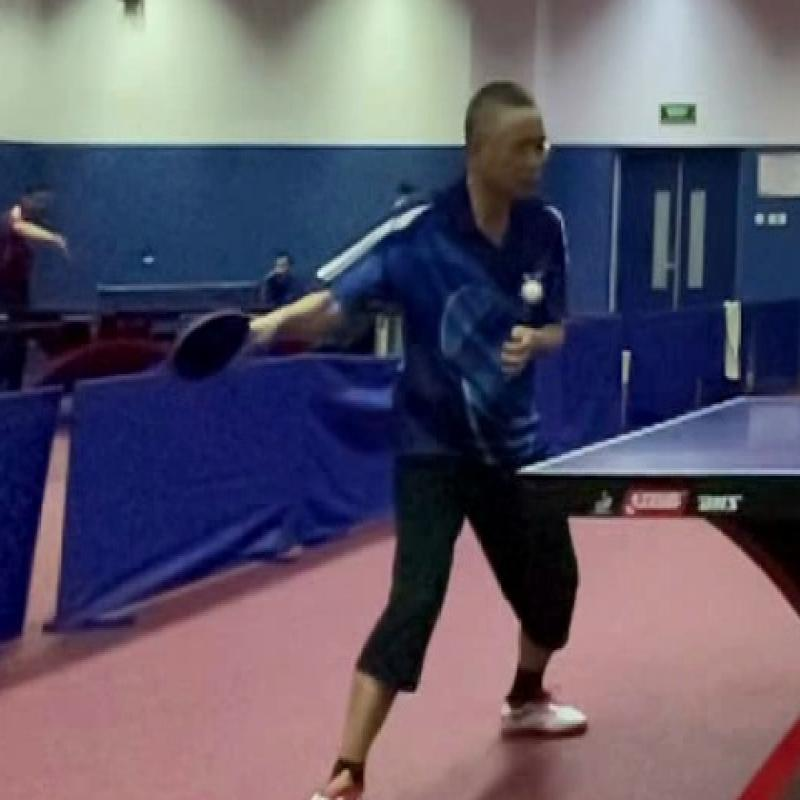bats: (159, 298, 266, 396)
